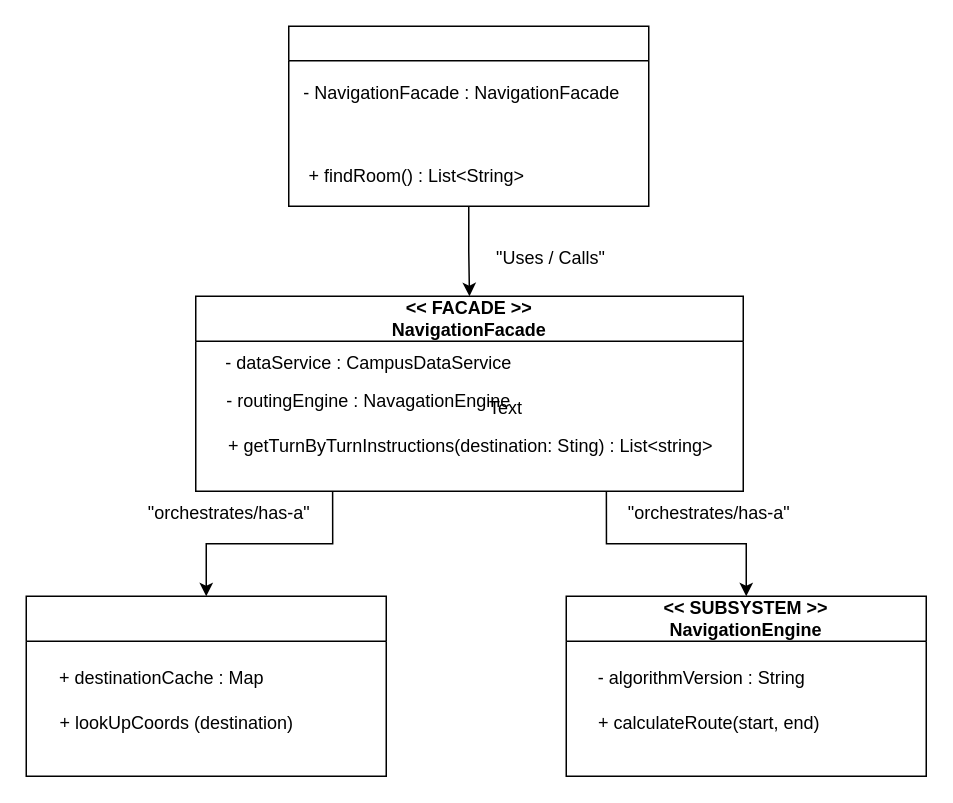
Image size: 953x803. Some labels were removed from this diagram. Each missing label, with the box of its shape:
<< SUBSYSTEM >> CampusDataService: (25, 595, 386, 776)
MobileApp (Client): (287, 25, 649, 206)
